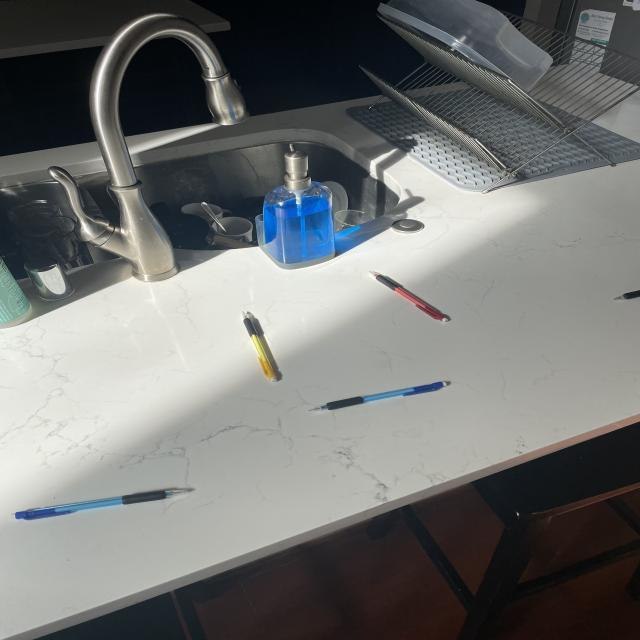mechanical-pencils: (26, 487, 190, 528), (318, 383, 449, 413), (376, 278, 452, 326), (244, 319, 290, 388)
